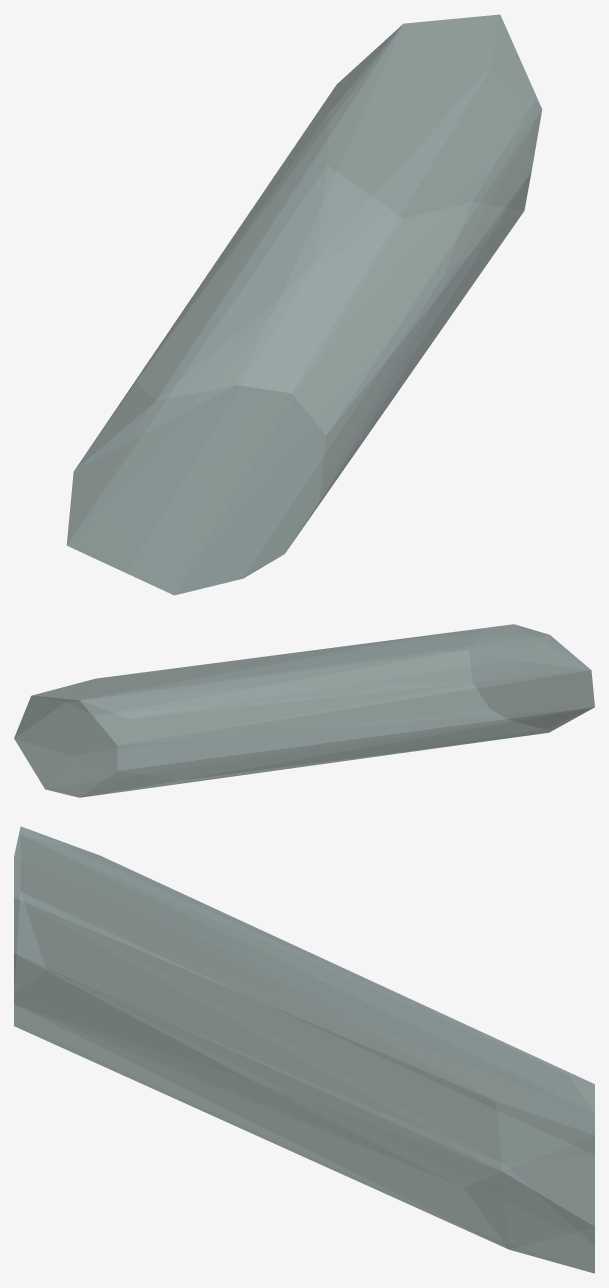
3 renders of one model, top to bottom at view 1: azimuth 30°, elevation 25°; view 2: azimuth 150°, elevation 25°; view 3: azimuth 270°, elevation 25°, orthographic. The views are drawn at different scales.
Parts seen in each view (by area): view 1: Shape_IndexedFaceSet.010_Shape_IndexedFaceSet.4852; view 2: Shape_IndexedFaceSet.010_Shape_IndexedFaceSet.4852; view 3: Shape_IndexedFaceSet.010_Shape_IndexedFaceSet.4852.
Boxes of the visible parts, x1,y1,x2,y2 form: Shape_IndexedFaceSet.010_Shape_IndexedFaceSet.4852: (66, 14, 542, 595); Shape_IndexedFaceSet.010_Shape_IndexedFaceSet.4852: (14, 624, 594, 797); Shape_IndexedFaceSet.010_Shape_IndexedFaceSet.4852: (14, 826, 594, 1273).
Size of the model in its own units: 0.1712 by 0.0435 by 0.1277.
